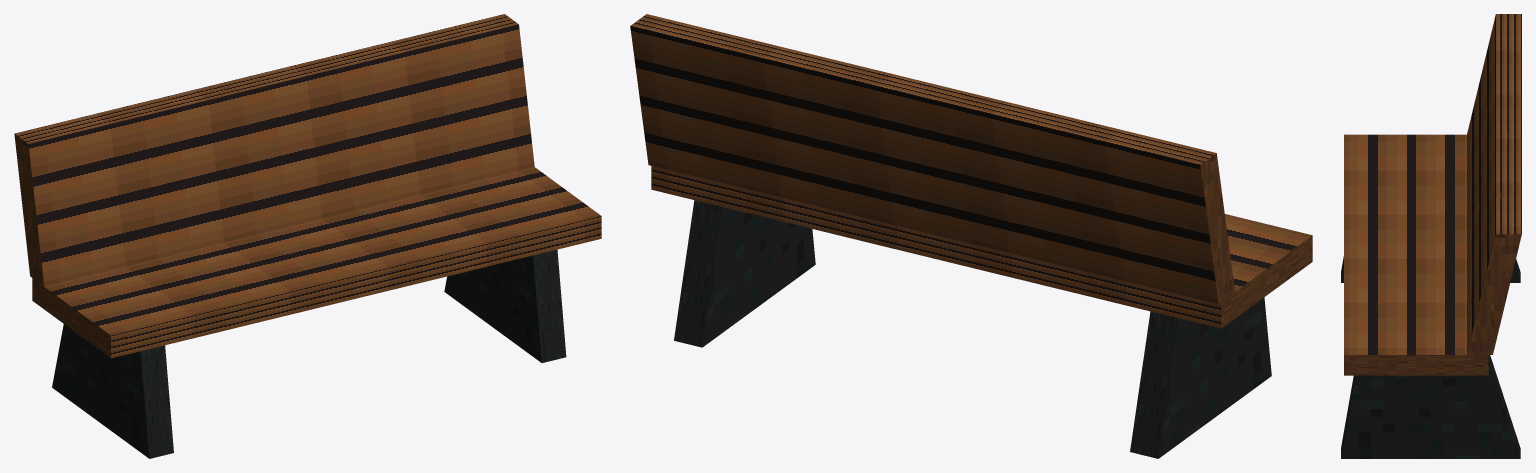
The model's file is bench.glb.
3 renders of one model, left to right at view 1: azimuth 30°, elevation 25°; view 2: azimuth 150°, elevation 25°; view 3: azimuth 270°, elevation 25°, orthographic. The views are drawn at different scales.
Parts seen in each view (by area): view 1: Bench; view 2: Bench; view 3: Bench.
Boxes of the visible parts, x1,y1,x2,y2 form: Bench: (14,14,601,458); Bench: (630,14,1312,458); Bench: (1341,14,1521,458).
Size of the model in its own units: 1.8 by 0.92 by 0.625.
1 material, 1 textured.
